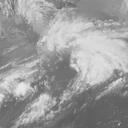cyclone: (39, 21, 111, 82)
